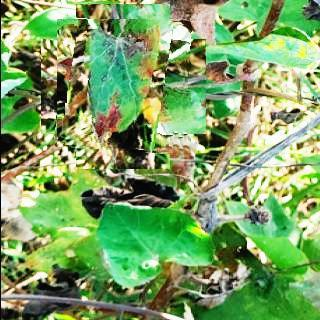blight: (56, 20, 189, 154)
